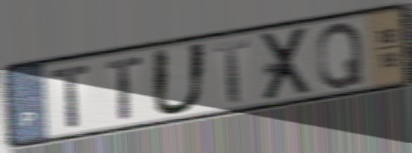Q: (315, 20, 366, 92)
T: (49, 62, 93, 130), (211, 38, 252, 105), (104, 54, 145, 121)
U: (149, 40, 210, 118)
X: (259, 23, 315, 104)
